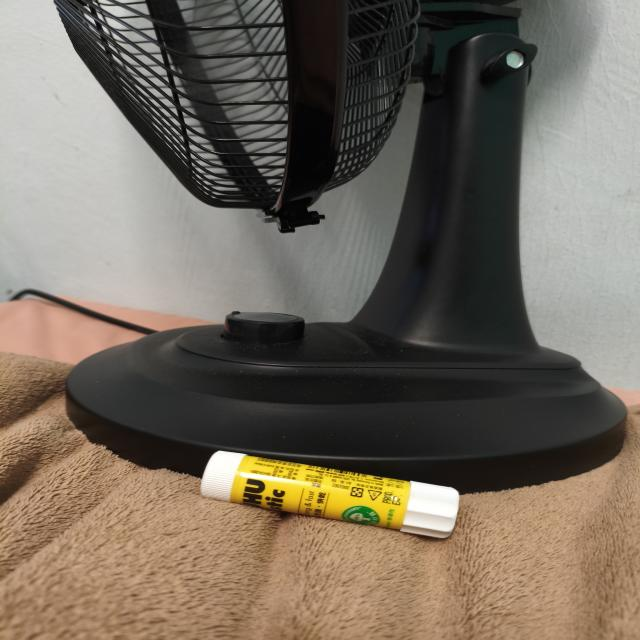glue: (201, 450, 459, 538)
